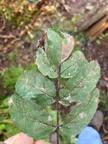powdery_mildew: (10, 30, 98, 144)
